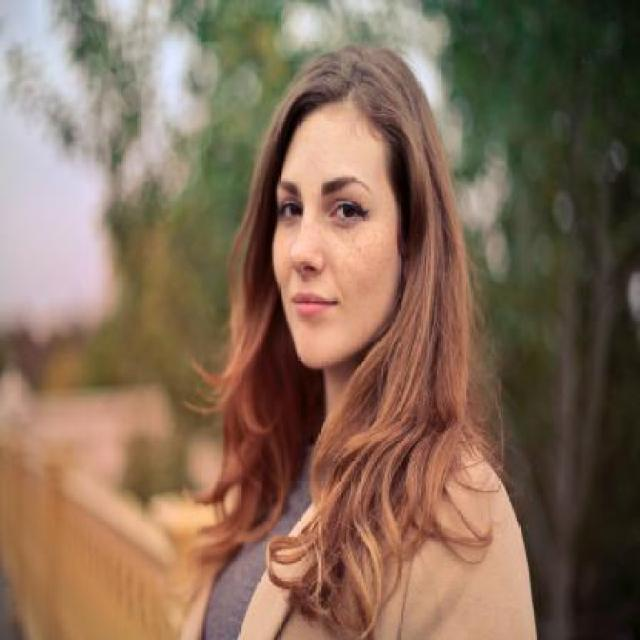closed-mouth: (292, 292, 340, 316)
